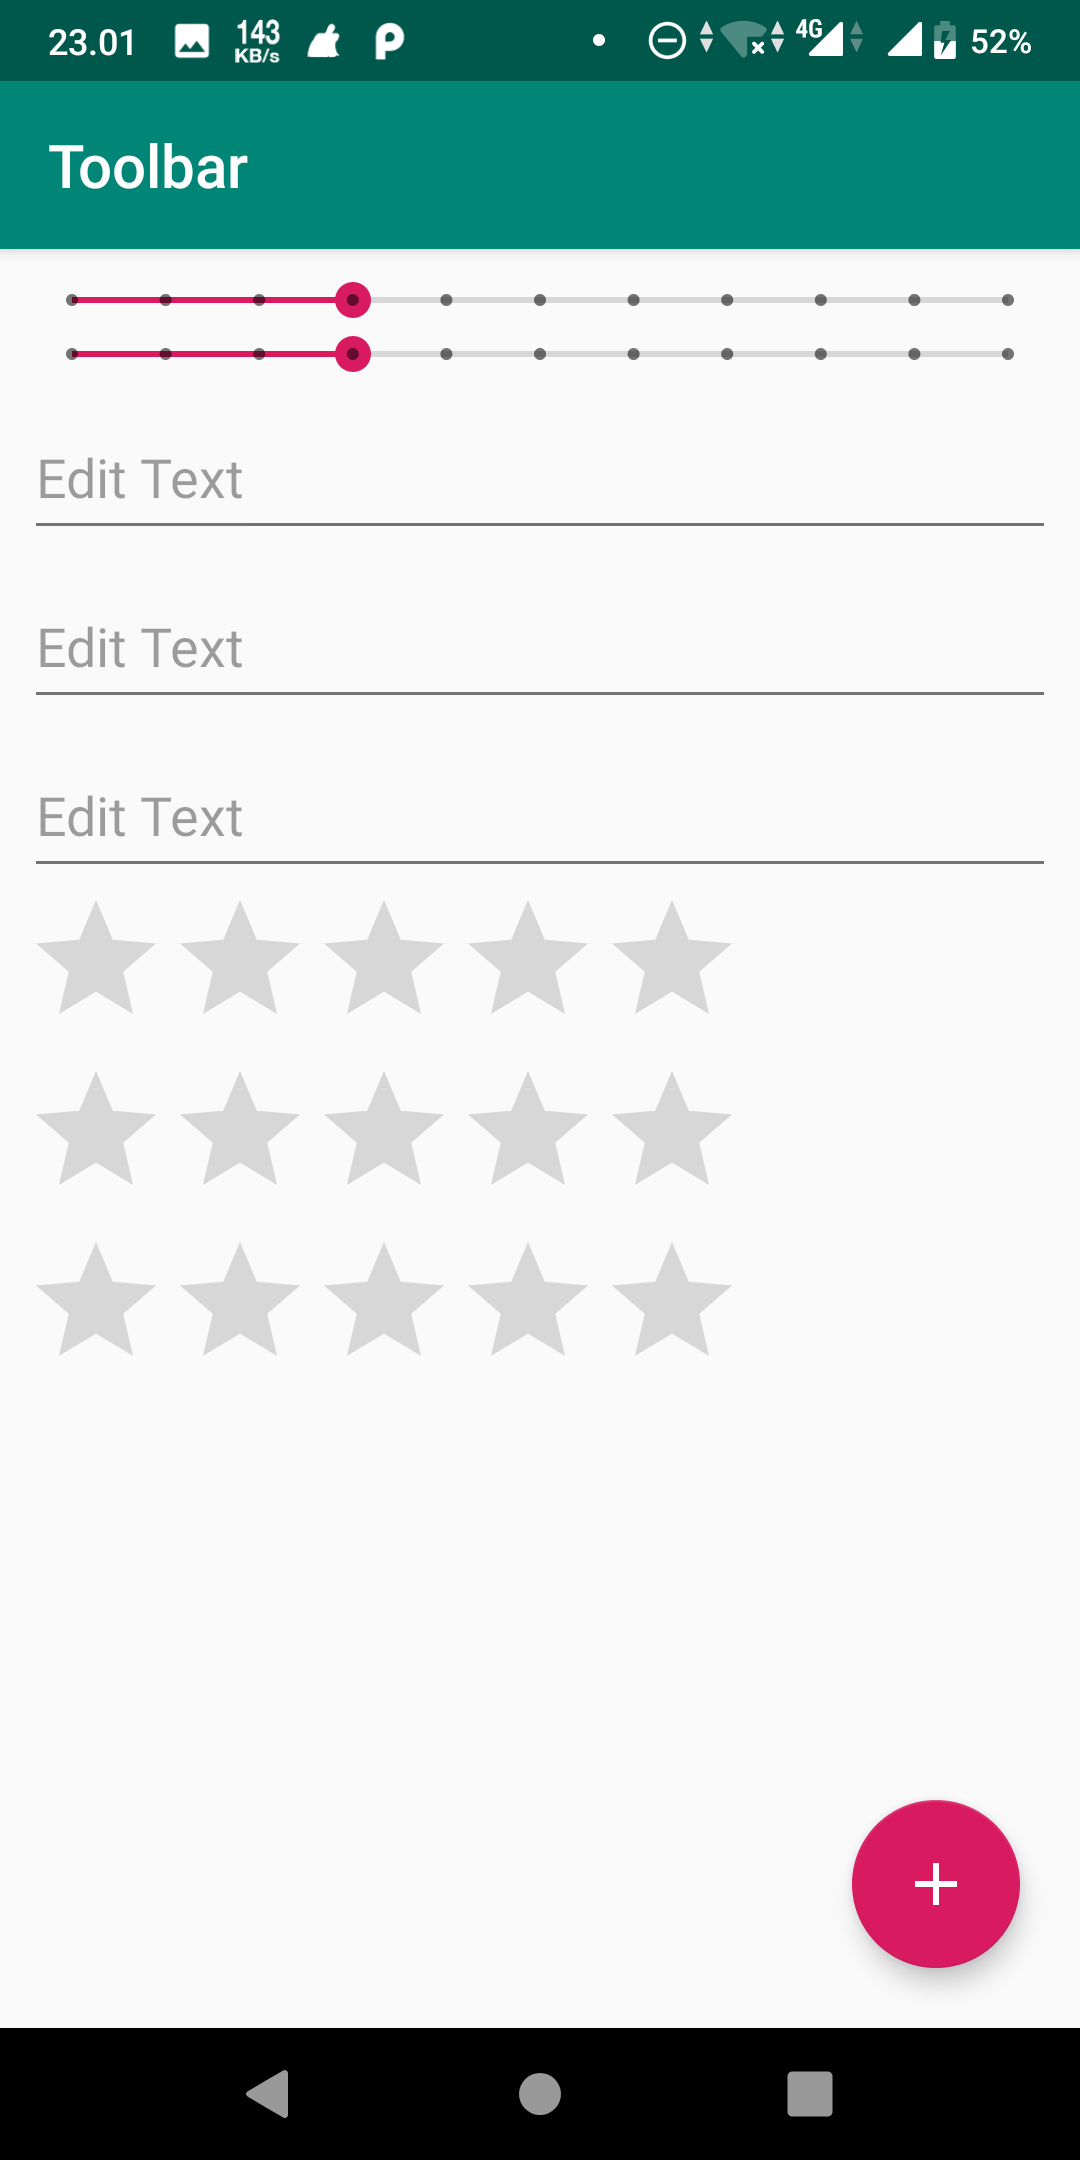editText: (25, 441, 1054, 554), (23, 596, 1052, 709), (28, 766, 1057, 879)
floatingButton: (838, 1787, 1019, 1980)
ratingBar: (32, 895, 741, 1025), (30, 1062, 738, 1192), (28, 1234, 737, 1362)
slider: (56, 280, 1025, 328), (56, 331, 1028, 373)
toolbar: (3, 77, 1080, 247)
